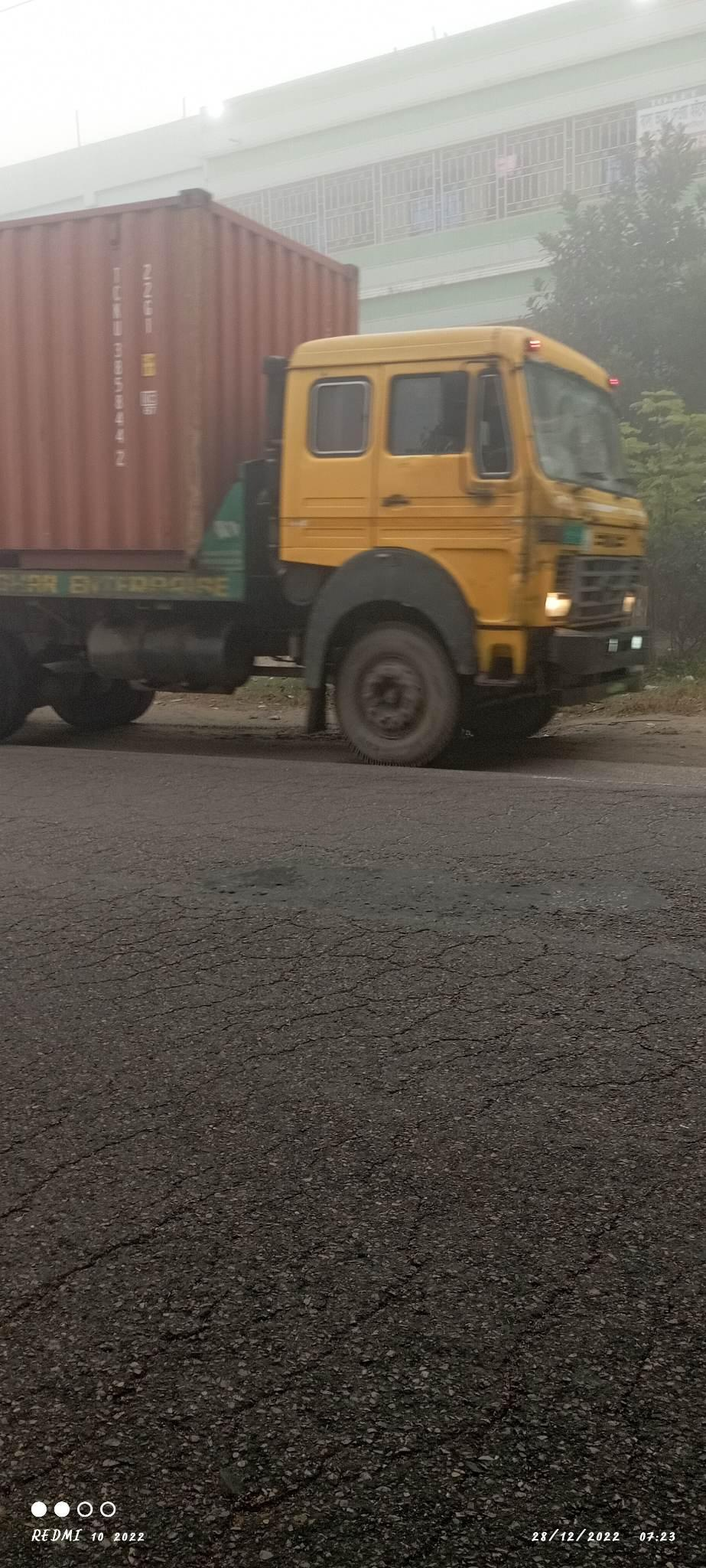Truck: (6, 192, 670, 851)
